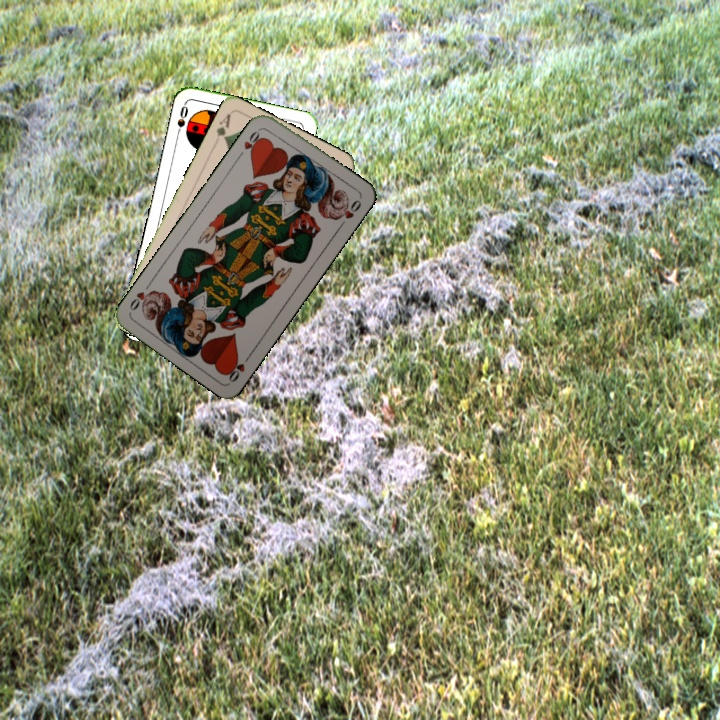GA: (212, 109, 234, 143)
HO: (222, 349, 254, 385), (235, 124, 265, 160)
SO: (173, 100, 191, 140)
